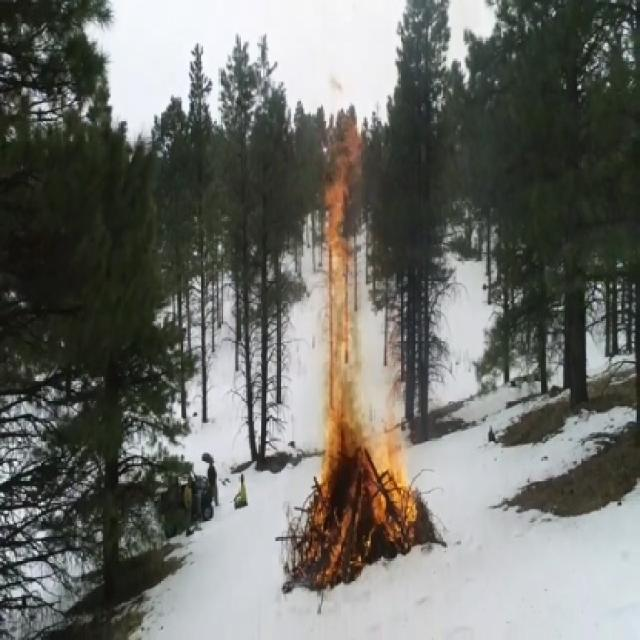Fire: (277, 103, 435, 591)
